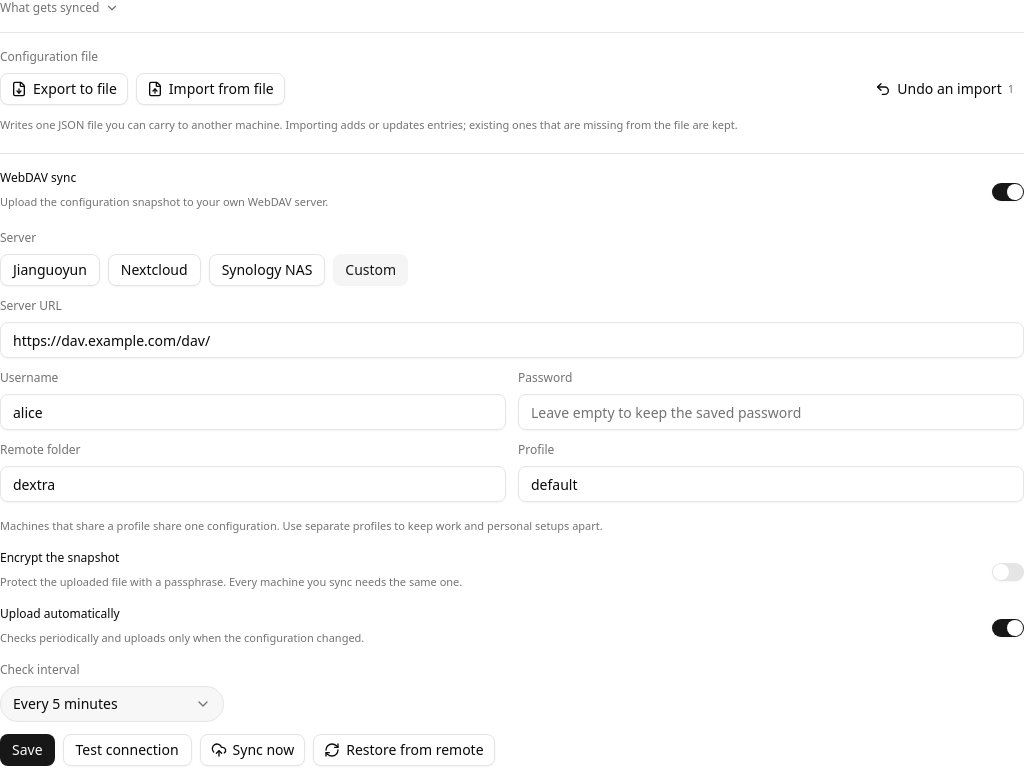
ConfigSyncSettings — rollback snapshots › drops a snapshot the backend can no longer find
Expected: the button "Save" is shown, [0,734,55,766]
Click the button "Undo an import 1" at [945, 89], box [865,73,1023,105]
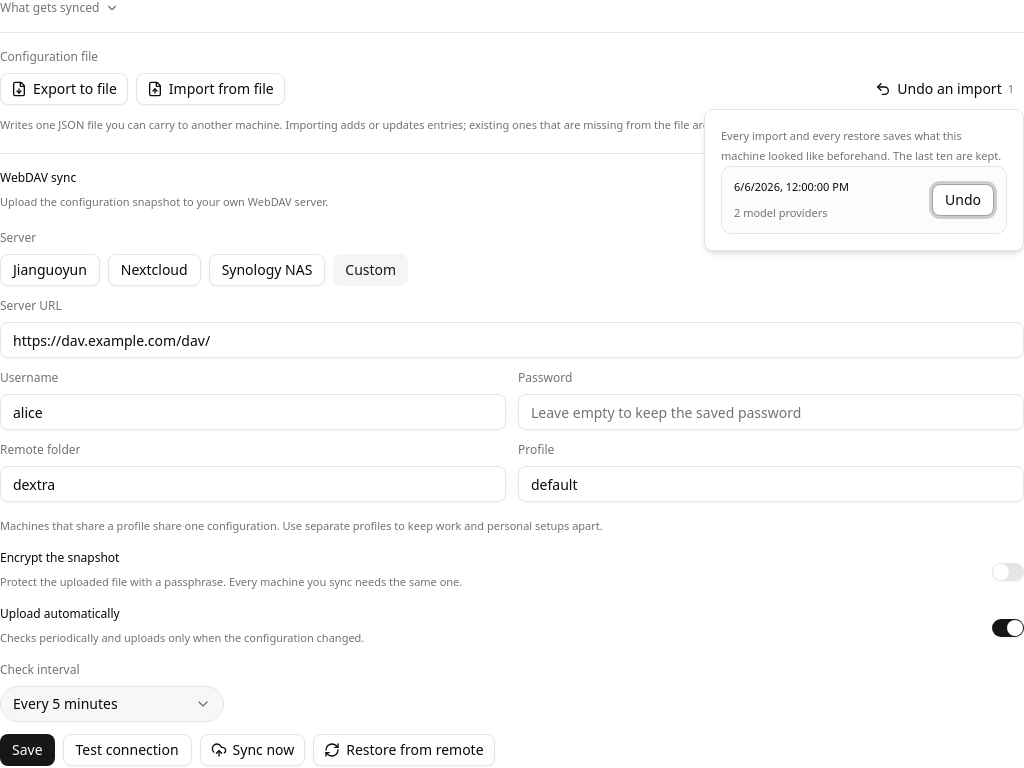
Click the button "Undo" at [963, 200], box [932,184,994,216]
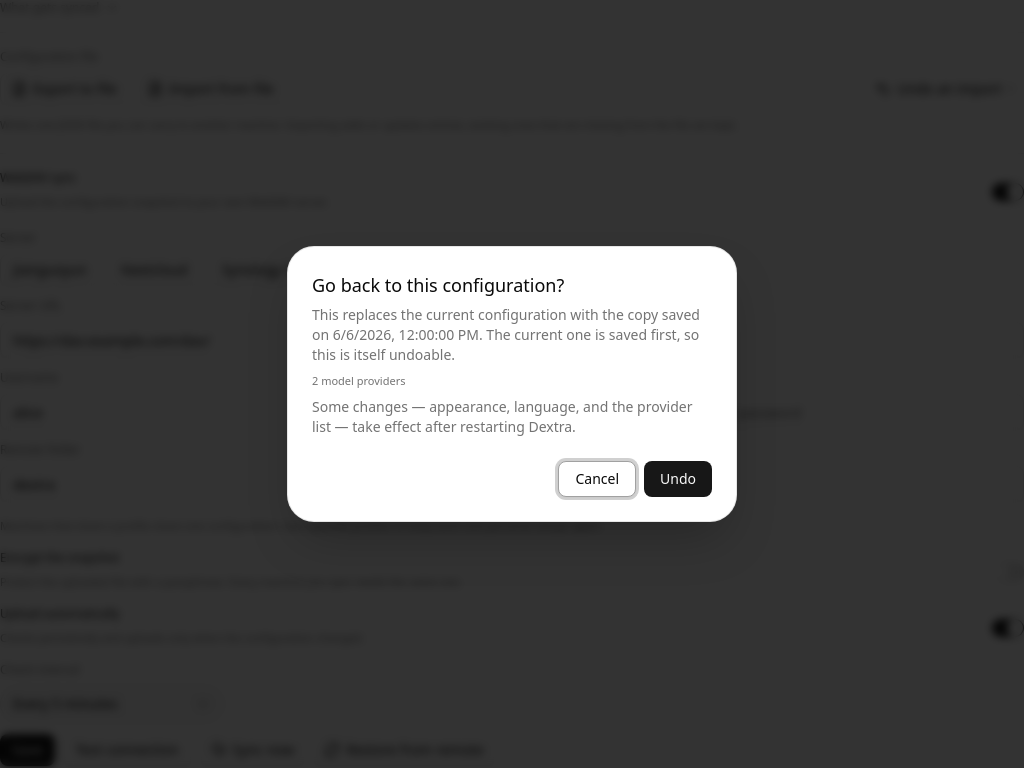
Now the heading "Go back to this configuration?" is shown, box [312,271,564,299]
Click the button "Undo" at [678, 479], box [644,461,712,497]
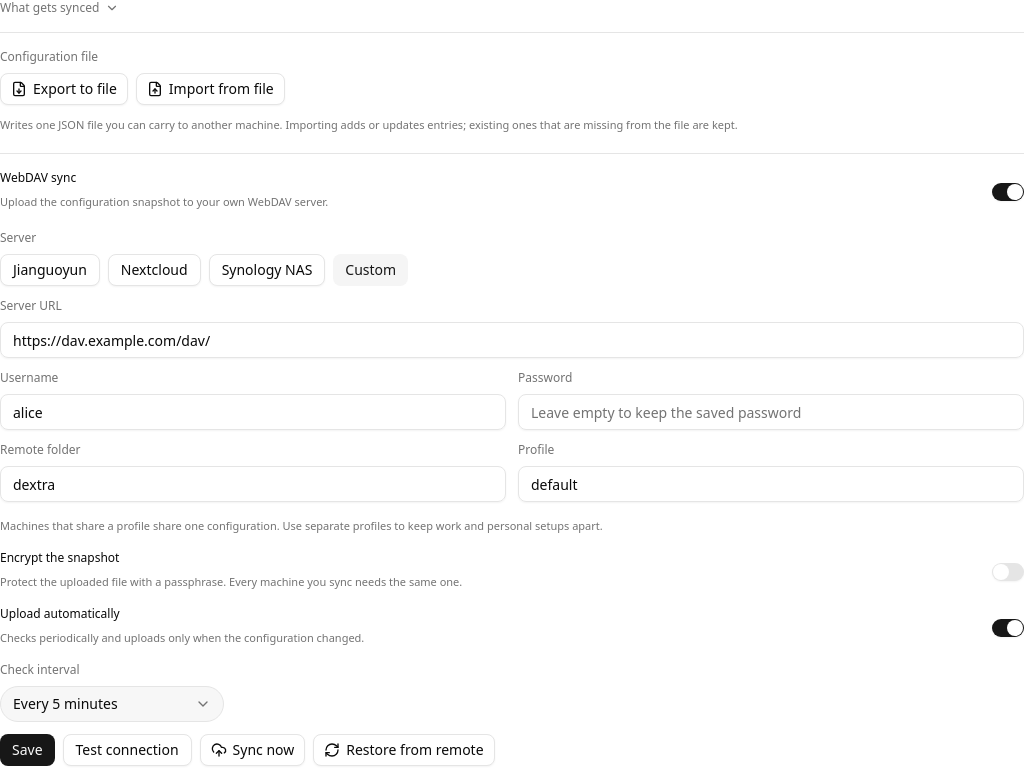
Now the button "Undo an import" is gone
